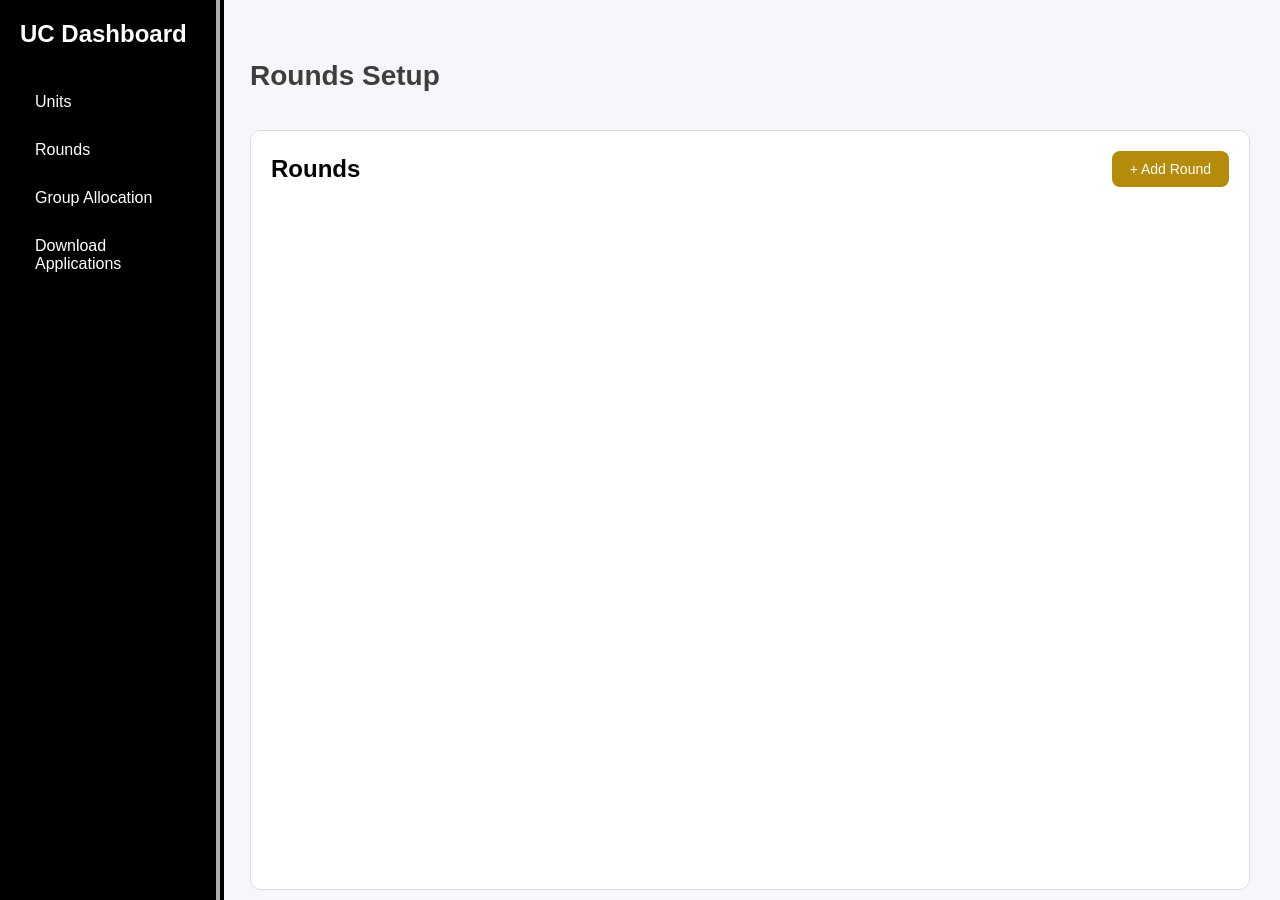
Test case: Rounds › opens and cancels the Add Round form
Click the button "+ Add Round": [1170, 169] box [1112,151,1229,187]
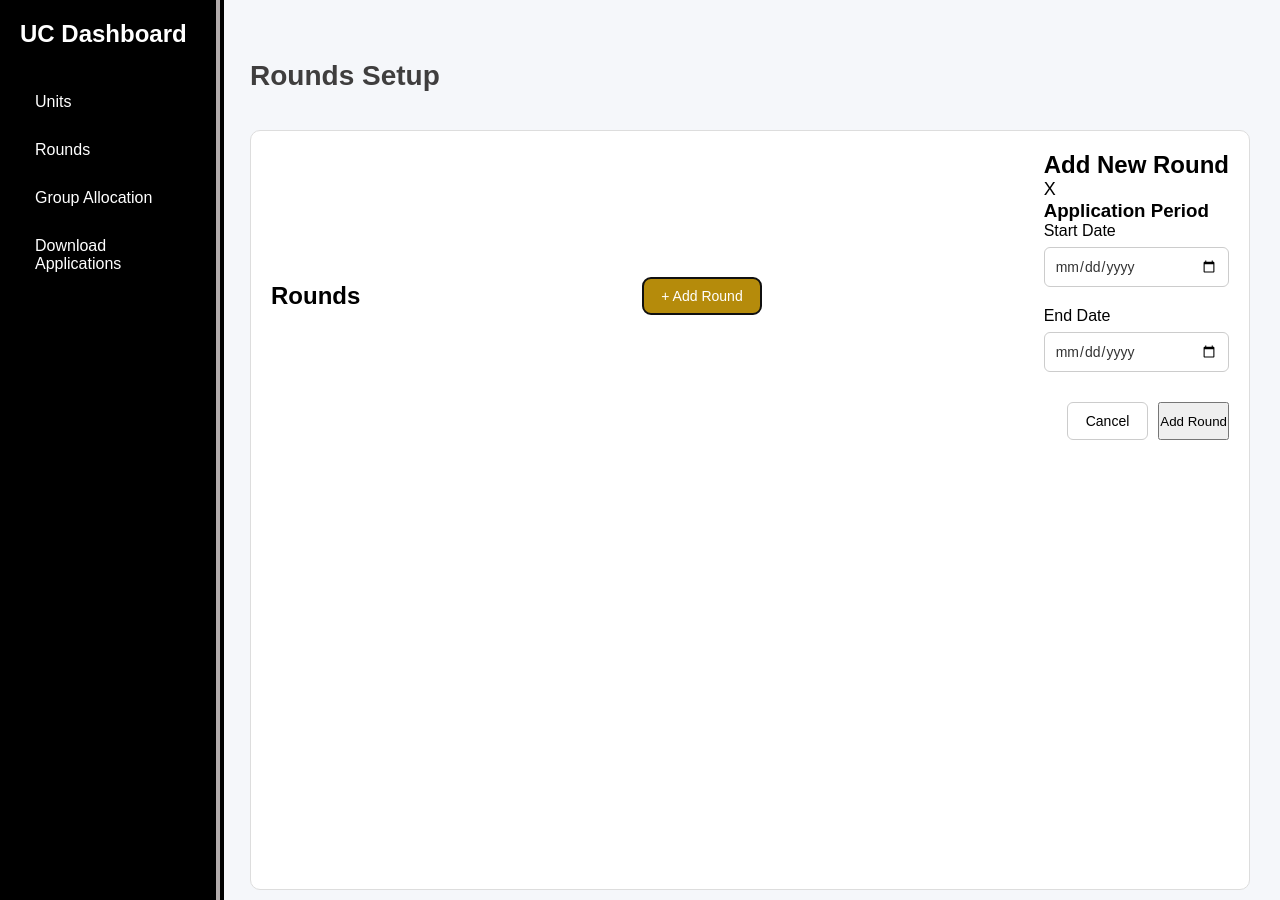
Check: the heading "Add New Round" is shown, box [1044,151,1229,179]
Click the button "Cancel": [1108, 421] box [1067,402,1148,440]
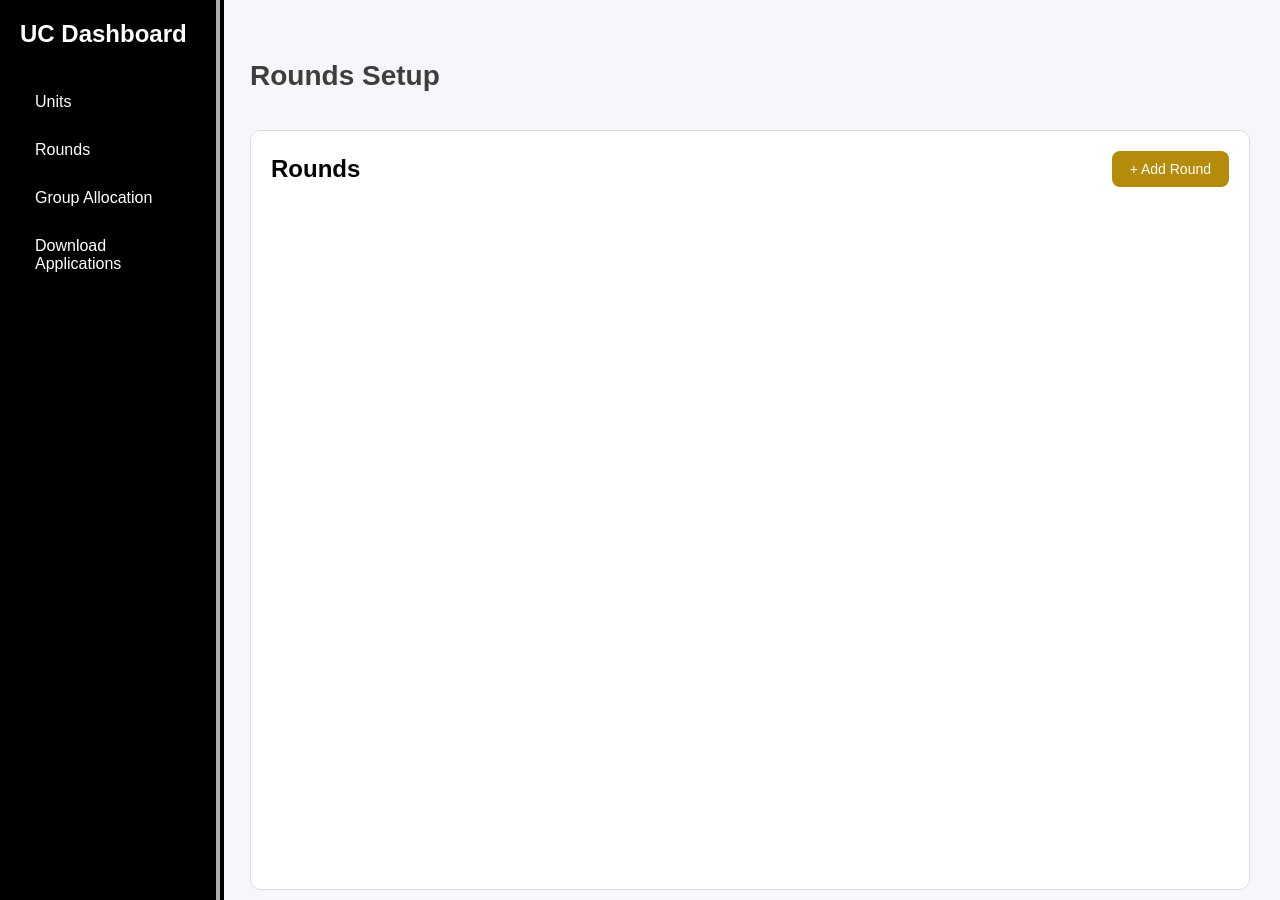
Check: the heading "Add New Round" is gone
